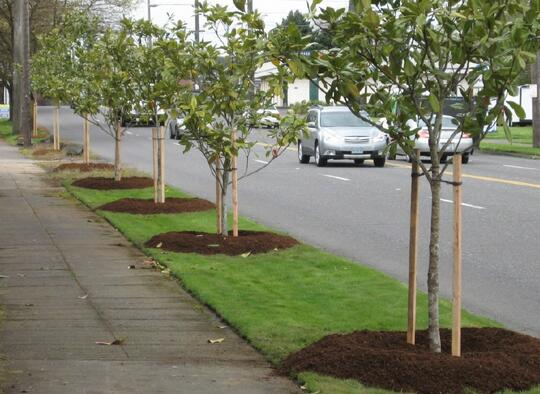Car: (289, 101, 395, 173)
Tree: (310, 1, 495, 365), (172, 1, 287, 253), (56, 1, 148, 186), (117, 8, 197, 218)
